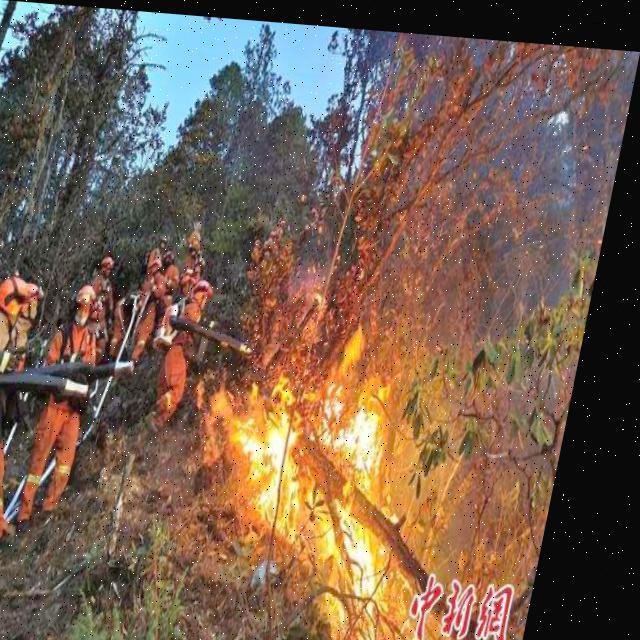Fire: (191, 292, 477, 639)
